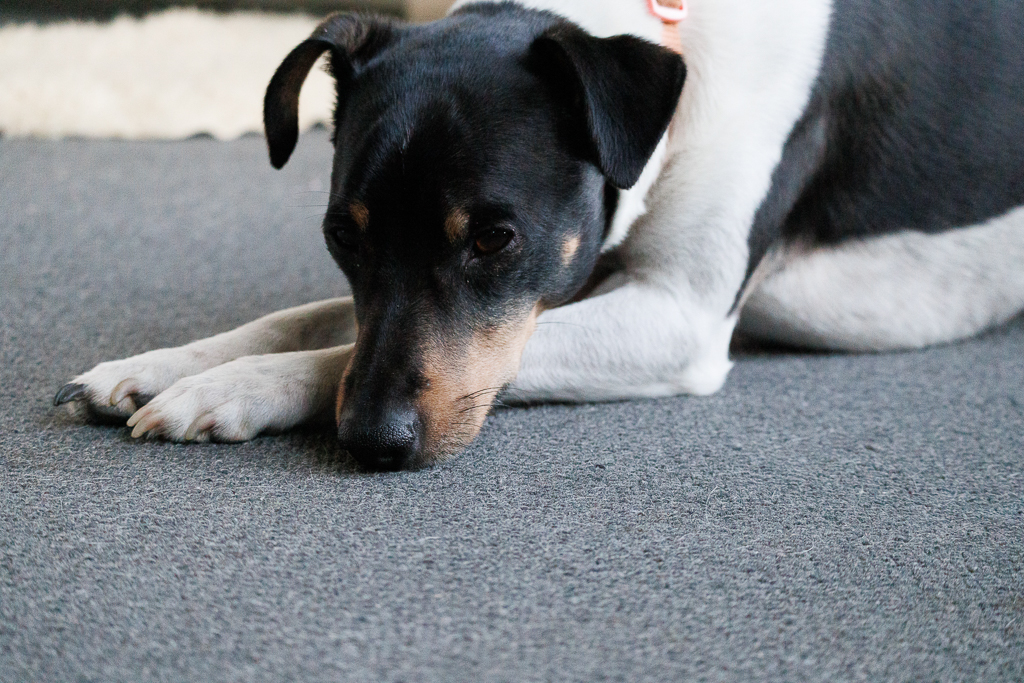Dog: (41, 0, 1024, 483)
